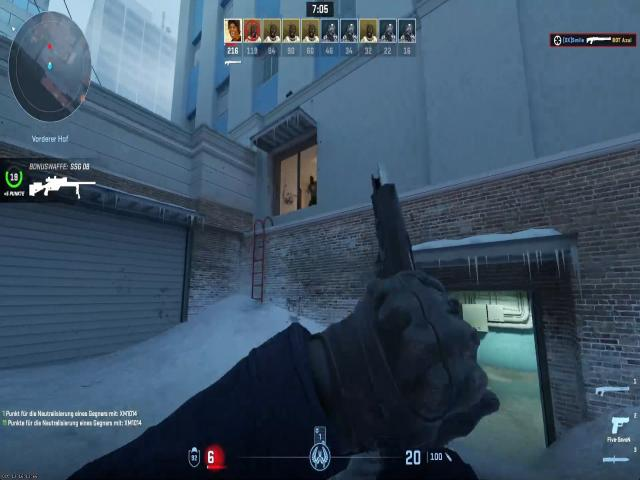T: (307, 174, 317, 198)
T-Head: (308, 173, 316, 189)
